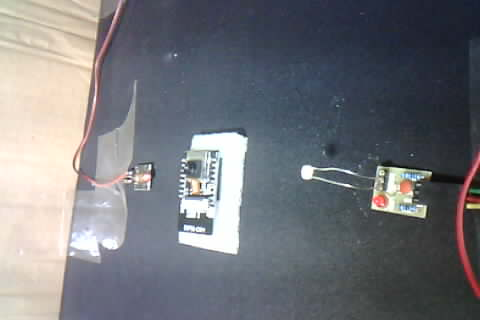esp32: (176, 131, 249, 256)
